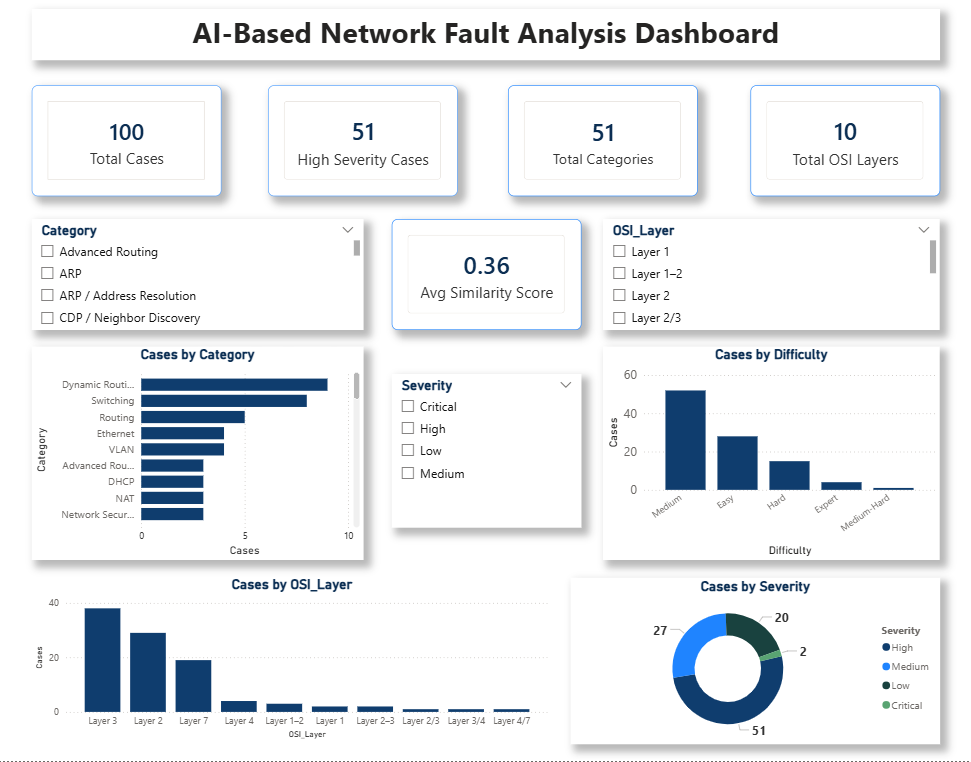

The dashboard page shown, as its layout file describes it:
{"tool":"powerbi","page":{"name":"AI-Based Network Fault Analysis Dashboard","canvas":[1280,1000],"ordinal":0},"visuals":[{"type":"textbox","box":[43.8,12.5,1191.3,67.3],"z":0},{"type":"cardVisual","fields":{"Data":["ai_assisted_diagnosis_results.Total Cases"]},"box":[43.8,112.7,248.9,145.6],"z":1000},{"type":"cardVisual","fields":{"Data":["ai_assisted_diagnosis_results.High Severity Cases"]},"box":[353.8,112.7,248.9,145.6],"z":2000},{"type":"cardVisual","fields":{"Data":["ai_assisted_diagnosis_results.Avg Similarity Score"]},"box":[516.6,288,248.9,145.6],"z":3000},{"type":"donutChart","fields":{"Category":["ai_assisted_diagnosis_results.Severity"],"Y":["CountNonNull(ai_assisted_diagnosis_results.Case_ID)"]},"box":[43.8,757.7,469.6,217.6],"z":4000},{"type":"clusteredColumnChart","title":"Cases by OSI_Layer","fields":{"Category":["ai_assisted_diagnosis_results.OSI_Layer"],"Y":["CountNonNull(ai_assisted_diagnosis_results.Case_ID)"]},"box":[43.8,757.7,682.5,217.6],"z":5000},{"type":"clusteredBarChart","title":"Cases by Category","fields":{"Category":["ai_assisted_diagnosis_results.Category"],"Y":["CountNonNull(ai_assisted_diagnosis_results.Case_ID)"]},"box":[43.8,455.5,435.2,280.2],"z":6000},{"type":"clusteredColumnChart","title":"Cases by Difficulty","fields":{"Category":["ai_assisted_diagnosis_results.Difficulty"],"Y":["CountNonNull(ai_assisted_diagnosis_results.Case_ID)"]},"box":[793.3,455,441.7,280],"z":7000},{"type":"slicer","fields":{"Values":["ai_assisted_diagnosis_results.Category"]},"box":[43.8,288,435.2,145.6],"z":8000},{"type":"slicer","fields":{"Values":["ai_assisted_diagnosis_results.Severity"]},"box":[516.6,491.5,248.9,201.9],"z":9000},{"type":"slicer","fields":{"Values":["ai_assisted_diagnosis_results.OSI_Layer"]},"box":[793.7,288,441.5,145.6],"z":10000},{"type":"cardVisual","fields":{"Data":["ai_assisted_diagnosis_results.Total Categories"]},"box":[668.4,112.7,248.9,145.6],"z":11000},{"type":"cardVisual","fields":{"Data":["ai_assisted_diagnosis_results.Total OSI Layers"]},"box":[986.2,112.7,248.9,145.6],"z":12000},{"type":"donutChart","title":"Cases by Severity","fields":{"Category":["ai_assisted_diagnosis_results.Severity"],"Y":["CountNonNull(ai_assisted_diagnosis_results.Case_ID)"]},"box":[750,758.3,485,218.3],"z":12001}]}

Visuals, with their boxes in screenshot pixels (x1, y1, x2, y2), scaled from the page's 1280x1000 canvas onto the 971x762 screenshot:
textbox: select_region(33, 10, 937, 61)
cardVisual - ai_assisted_diagnosis_results.Total Cases: select_region(33, 86, 222, 197)
cardVisual - ai_assisted_diagnosis_results.High Severity Cases: select_region(268, 86, 457, 197)
cardVisual - ai_assisted_diagnosis_results.Avg Similarity Score: select_region(392, 219, 581, 330)
donutChart - ai_assisted_diagnosis_results.Severity x CountNonNull(ai_assisted_diagnosis_results.Case_ID): select_region(33, 577, 389, 743)
"Cases by OSI_Layer" clusteredColumnChart: select_region(33, 577, 551, 743)
"Cases by Category" clusteredBarChart: select_region(33, 347, 363, 561)
"Cases by Difficulty" clusteredColumnChart: select_region(602, 347, 937, 560)
slicer - ai_assisted_diagnosis_results.Category: select_region(33, 219, 363, 330)
slicer - ai_assisted_diagnosis_results.Severity: select_region(392, 375, 581, 528)
slicer - ai_assisted_diagnosis_results.OSI_Layer: select_region(602, 219, 937, 330)
cardVisual - ai_assisted_diagnosis_results.Total Categories: select_region(507, 86, 696, 197)
cardVisual - ai_assisted_diagnosis_results.Total OSI Layers: select_region(748, 86, 937, 197)
"Cases by Severity" donutChart: select_region(569, 578, 937, 744)
